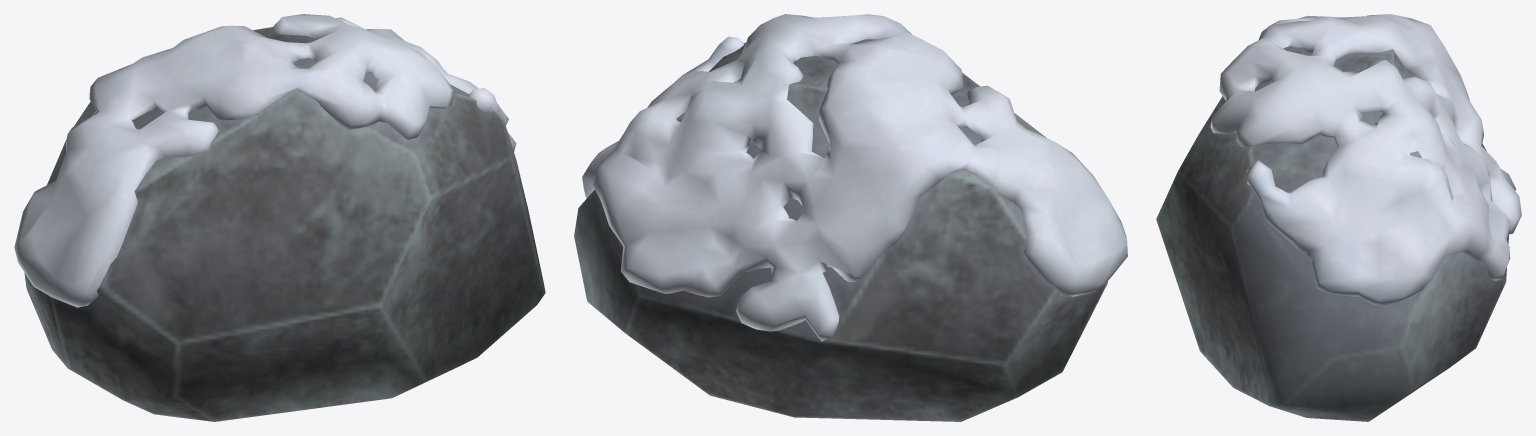
The model's file is Roca 3.glb.
The picture shows the model from 3 angles, left to right: view 1: azimuth 30°, elevation 25°; view 2: azimuth 150°, elevation 25°; view 3: azimuth 270°, elevation 25°; orthographic projection. The views are drawn at different scales.
Parts seen in each view (by area): view 1: Roca3_low; view 2: Roca3_low; view 3: Roca3_low.
Boxes of the visible parts, bbox=[...] form: Roca3_low: bbox=[14, 14, 545, 421]; Roca3_low: bbox=[574, 14, 1127, 421]; Roca3_low: bbox=[1156, 14, 1521, 421].
Size of the model in its own units: 6.69 by 4.23 by 4.67.
1 material, 1 textured.
